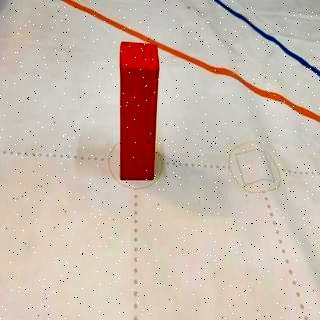redbox: (119, 40, 158, 182)
